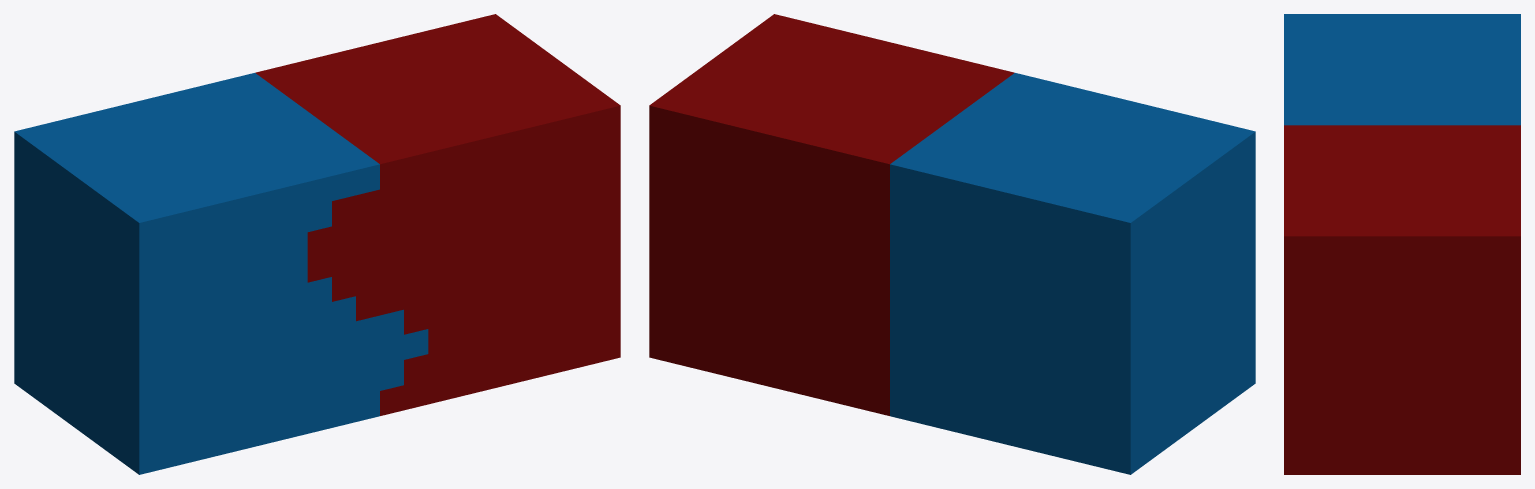
The model's file is inner 1x1 fade.obj.
3 views of the same model, side by side, from view 1: azimuth 30°, elevation 25°; view 2: azimuth 150°, elevation 25°; view 3: azimuth 270°, elevation 25° (orthographic). The views are drawn at different scales.
Bounding box in the file's own units: 20 × 10 × 9.
1 material, 1 textured.
